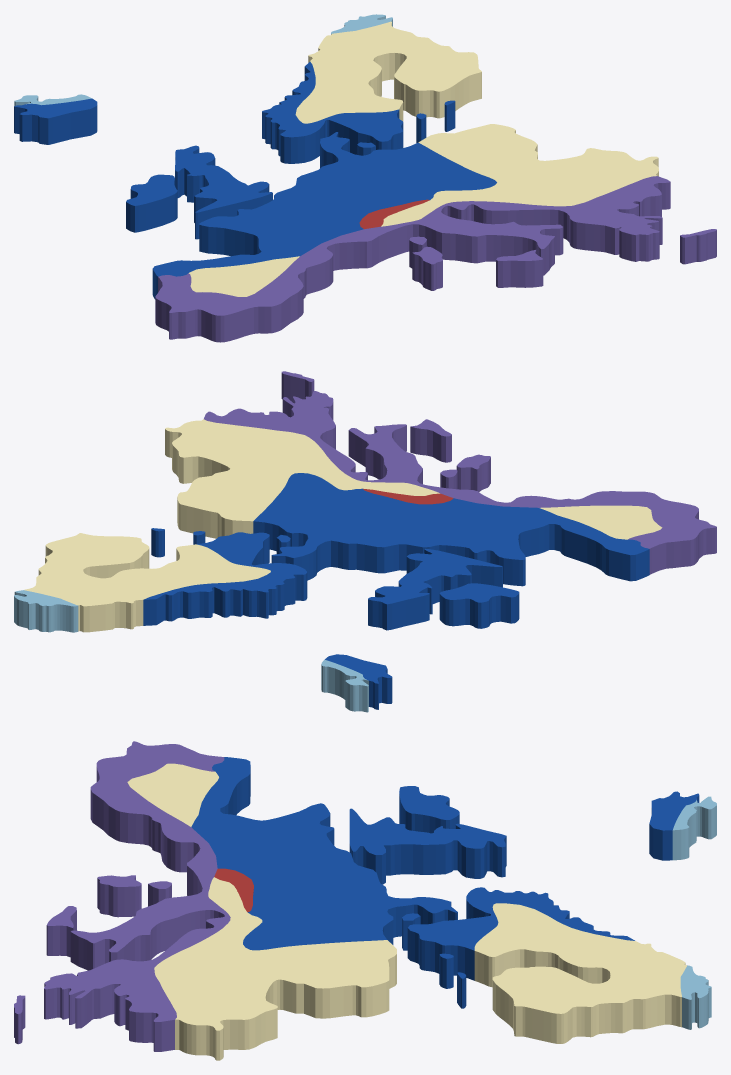
Rendered from EuropeWeather.glb.
3 views of the same model, one above another, from view 1: azimuth 30°, elevation 25°; view 2: azimuth 150°, elevation 25°; view 3: azimuth 270°, elevation 25° (orthographic). The views are drawn at different scales.
Parts seen in each view (by area): view 1: 温带海洋性气候, 地中海气候, 温带大陆性气候, 寒带气候, 高原山地气候; view 2: 温带海洋性气候, 温带大陆性气候, 地中海气候, 寒带气候, 高原山地气候; view 3: 温带大陆性气候, 温带海洋性气候, 地中海气候, 寒带气候, 高原山地气候.
Boxes of the visible parts, x1=… form: 温带海洋性气候: x1=14, y1=61, x2=496, y2=299; 地中海气候: x1=155, y1=176, x2=716, y2=342; 温带大陆性气候: x1=189, y1=21, x2=658, y2=296; 寒带气候: x1=14, y1=14, x2=392, y2=105; 高原山地气候: x1=359, y1=199, x2=429, y2=229; 温带海洋性气候: x1=143, y1=473, x2=649, y2=709; 温带大陆性气候: x1=24, y1=419, x2=662, y2=632; 地中海气候: x1=204, y1=371, x2=716, y2=574; 寒带气候: x1=14, y1=590, x2=368, y2=712; 高原山地气候: x1=363, y1=489, x2=453, y2=504; 温带大陆性气候: x1=127, y1=763, x2=686, y2=1060; 温带海洋性气候: x1=191, y1=757, x2=699, y2=1008; 地中海气候: x1=14, y1=741, x2=230, y2=1051; 寒带气候: x1=672, y1=796, x2=716, y2=1029; 高原山地气候: x1=214, y1=868, x2=253, y2=912.
Bounding box in the file's own units: 8.07 × 0.3919 × 8.29.
